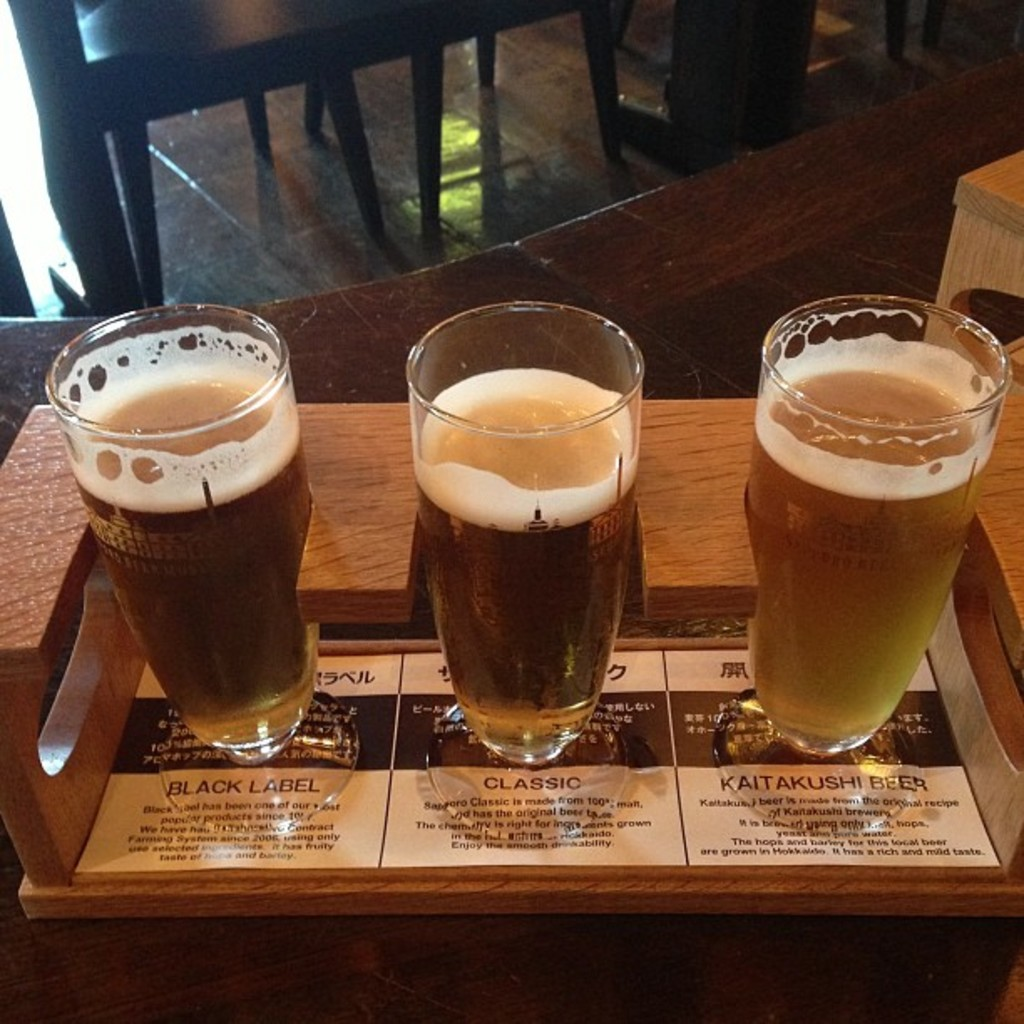Beer: (749, 329, 990, 747), (75, 361, 316, 737), (414, 378, 632, 716)
